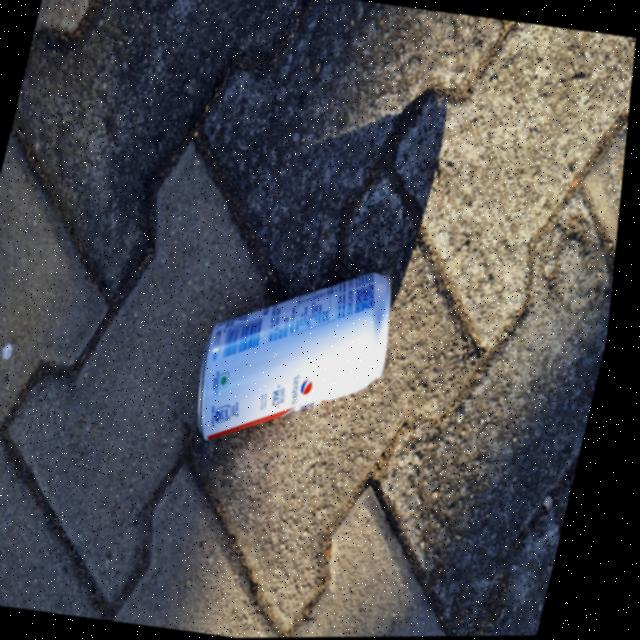Pepsi Retro: (190, 240, 415, 466)
